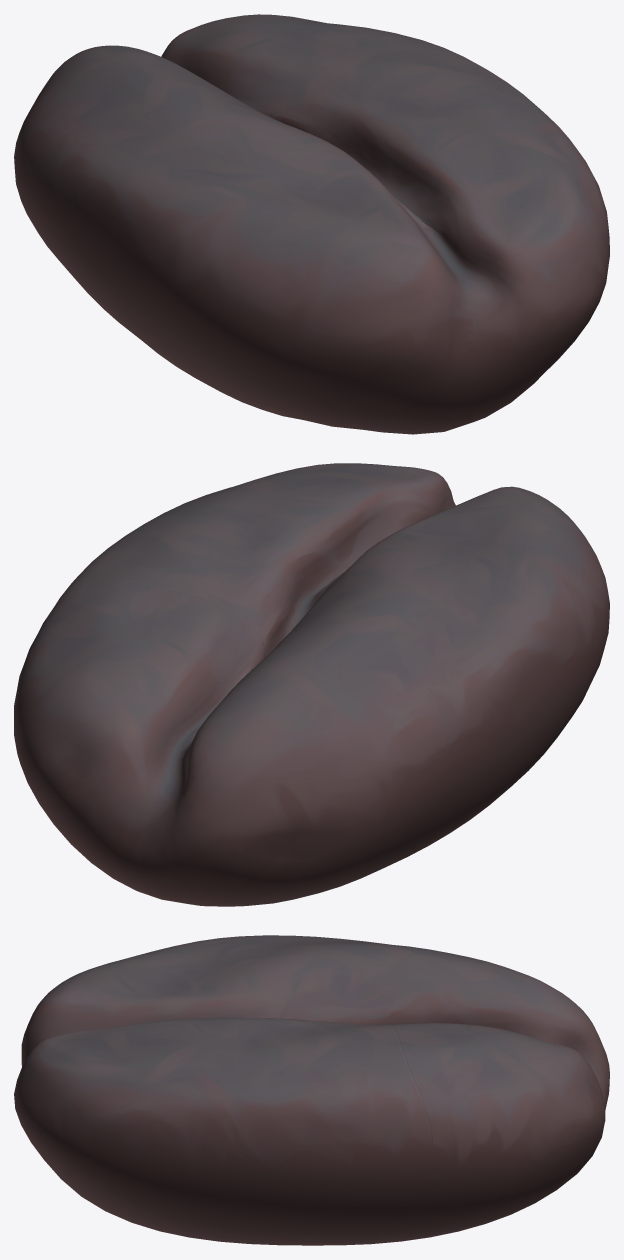
3 views of the same model, one above another, from view 1: azimuth 30°, elevation 25°; view 2: azimuth 150°, elevation 25°; view 3: azimuth 270°, elevation 25° (orthographic). The views are drawn at different scales.
Visible parts, largest first — view 1: Coffee Bean 02; view 2: Coffee Bean 02; view 3: Coffee Bean 02.
Boxes of the visible parts, x1,y1,x2,y2 form: Coffee Bean 02: [14, 14, 609, 434]; Coffee Bean 02: [14, 463, 609, 906]; Coffee Bean 02: [14, 935, 609, 1245].
Bounding box in the file's own units: 0.1818 × 0.1137 × 0.2635.
Materials: 1 (1 with a texture image).
